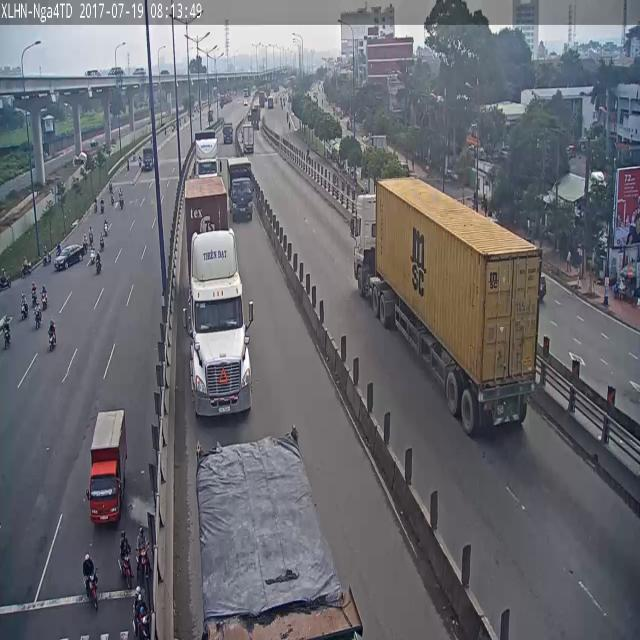car: (133, 585, 150, 639), (84, 555, 98, 610), (120, 531, 130, 564), (138, 548, 146, 585), (48, 321, 56, 351), (2, 323, 10, 348), (34, 304, 42, 329), (41, 285, 48, 310), (22, 294, 28, 319), (96, 251, 102, 274), (88, 248, 96, 264), (160, 43, 172, 48), (176, 41, 179, 44)
traffic-light: (54, 244, 84, 270)
truck: (356, 178, 549, 440), (199, 431, 365, 640), (182, 169, 255, 422), (88, 411, 127, 524), (195, 156, 254, 221)
